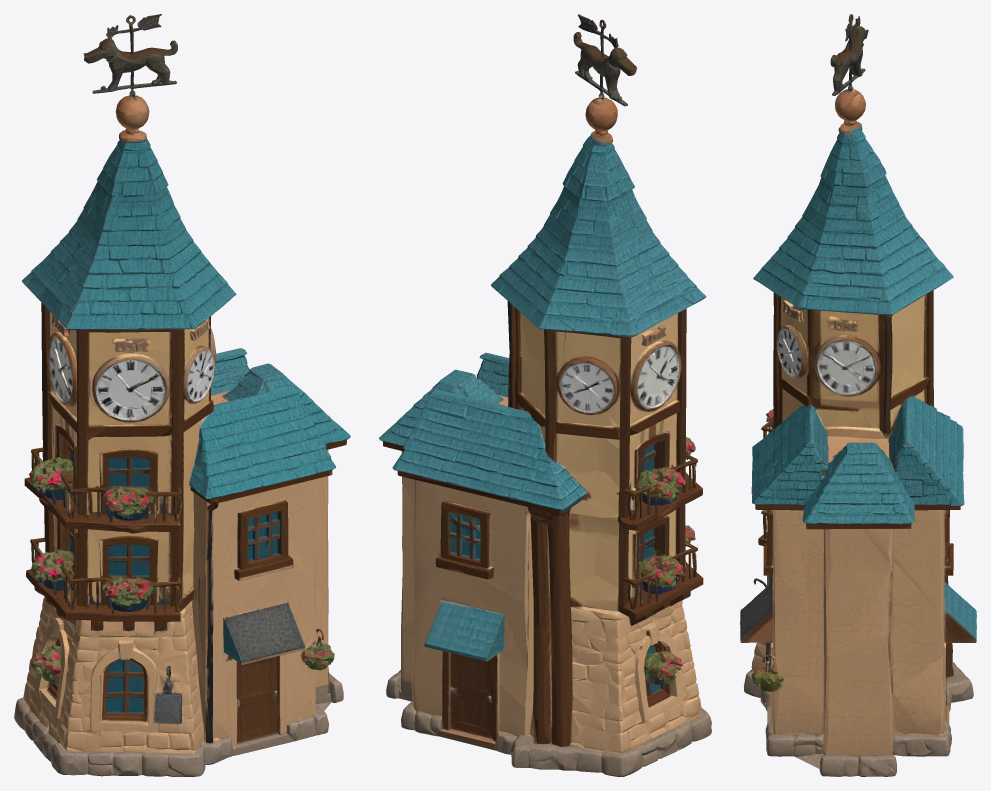
File: clock_tower.glb
The picture shows the model from 3 angles, left to right: view 1: azimuth 30°, elevation 25°; view 2: azimuth 150°, elevation 25°; view 3: azimuth 270°, elevation 25°; orthographic projection. The views are drawn at different scales.
Size of the model in its own units: 0.8027 by 1.9 by 0.6066.
1 material, 1 textured.
